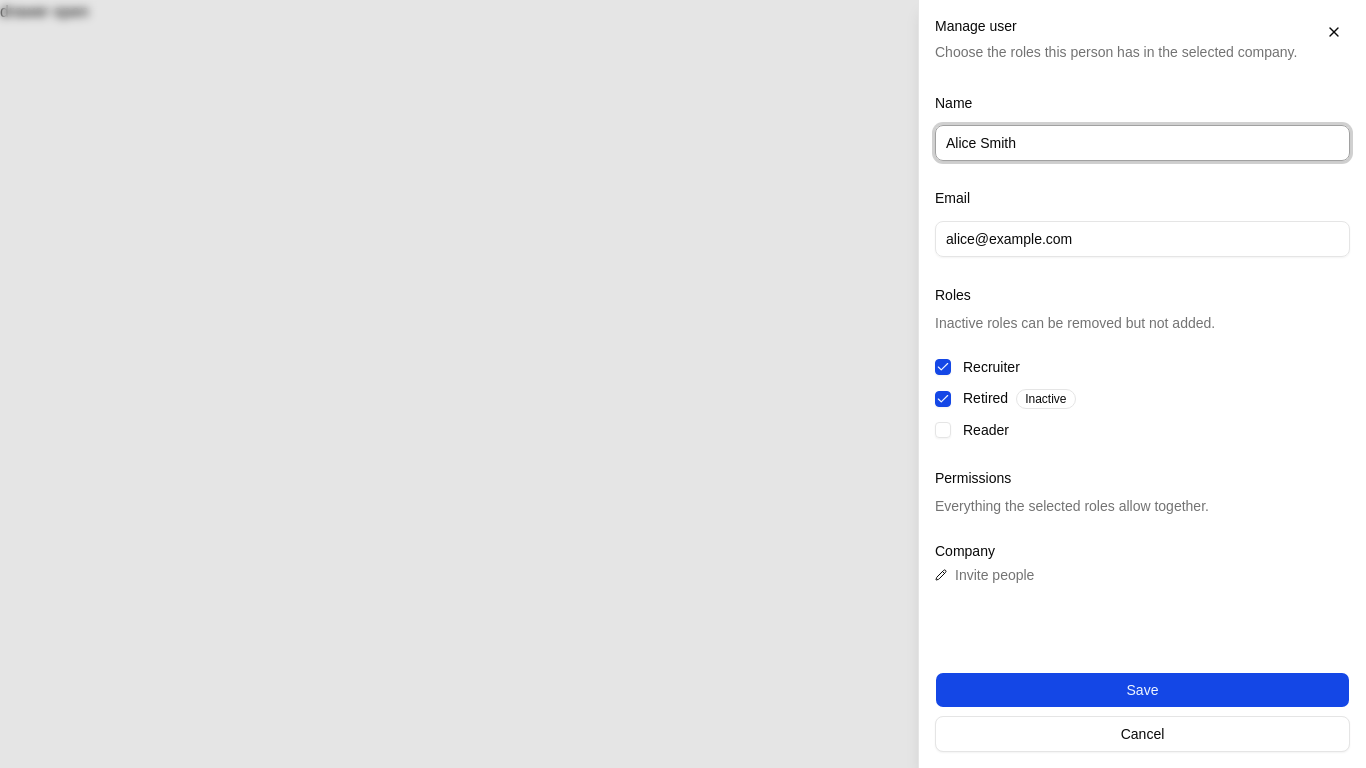
it: ManageUserDrawer › keeps at least one role and asks before discarding changes
Click the checkbox named "Recruiter" next to "Recruiter" at x=943, y=367, box [935, 359, 951, 375]
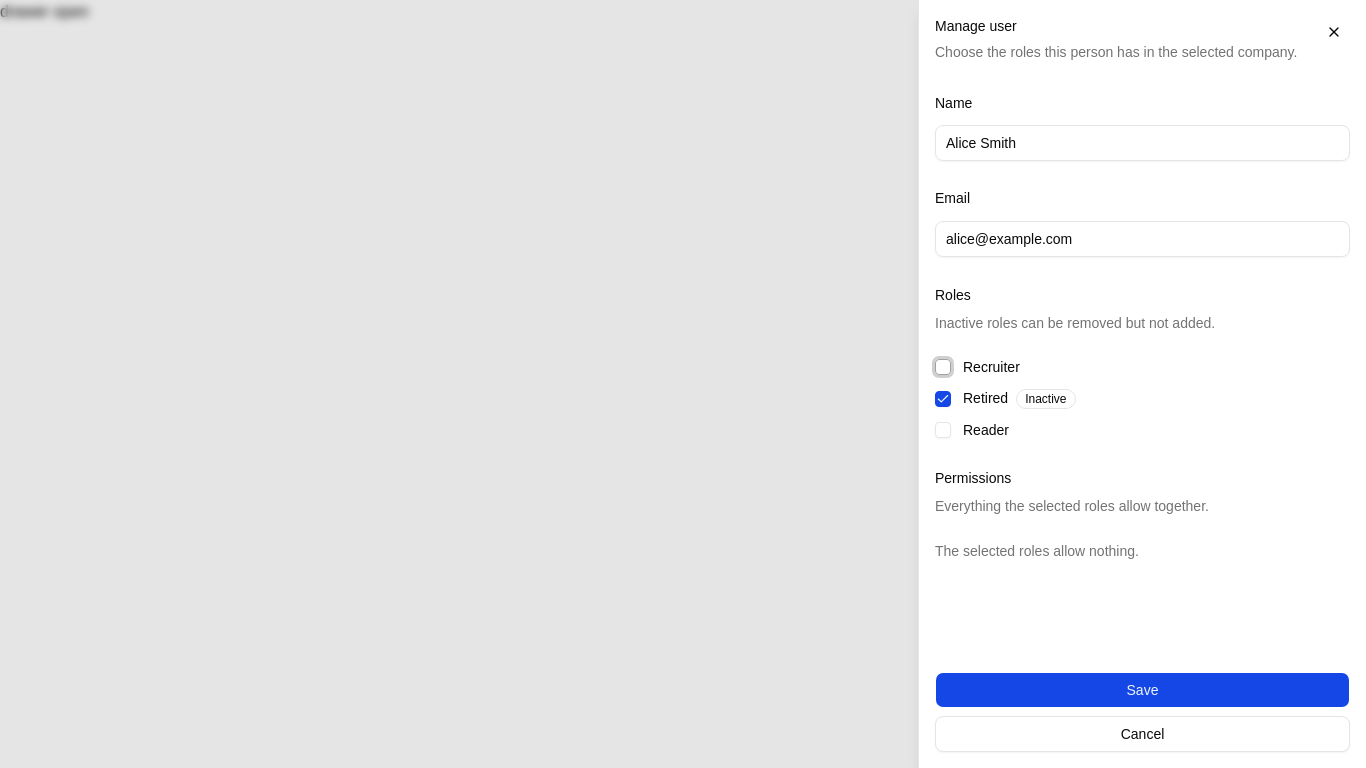
Click the checkbox named "Retired" next to "Retired" at x=943, y=399, box [935, 391, 951, 407]
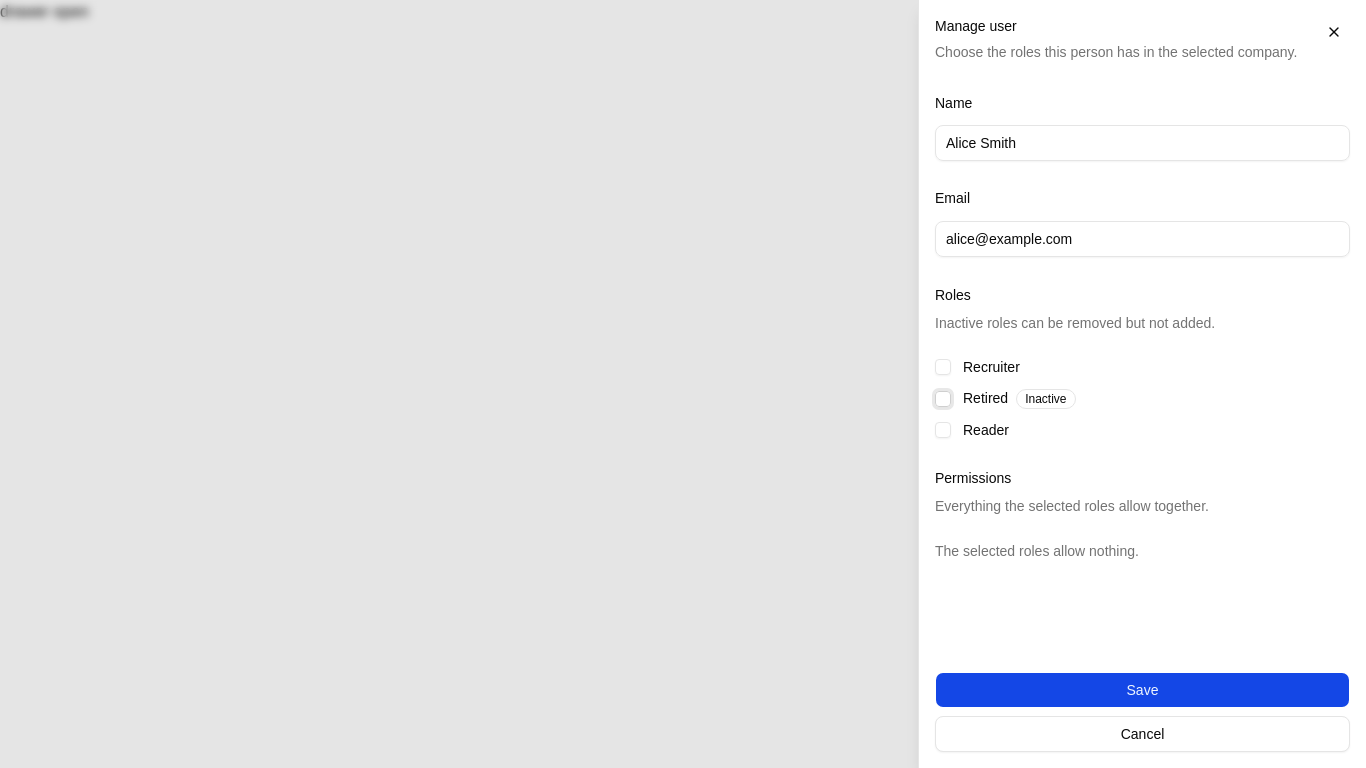
Click the button "Save" at x=1142, y=690, box [935, 672, 1350, 708]
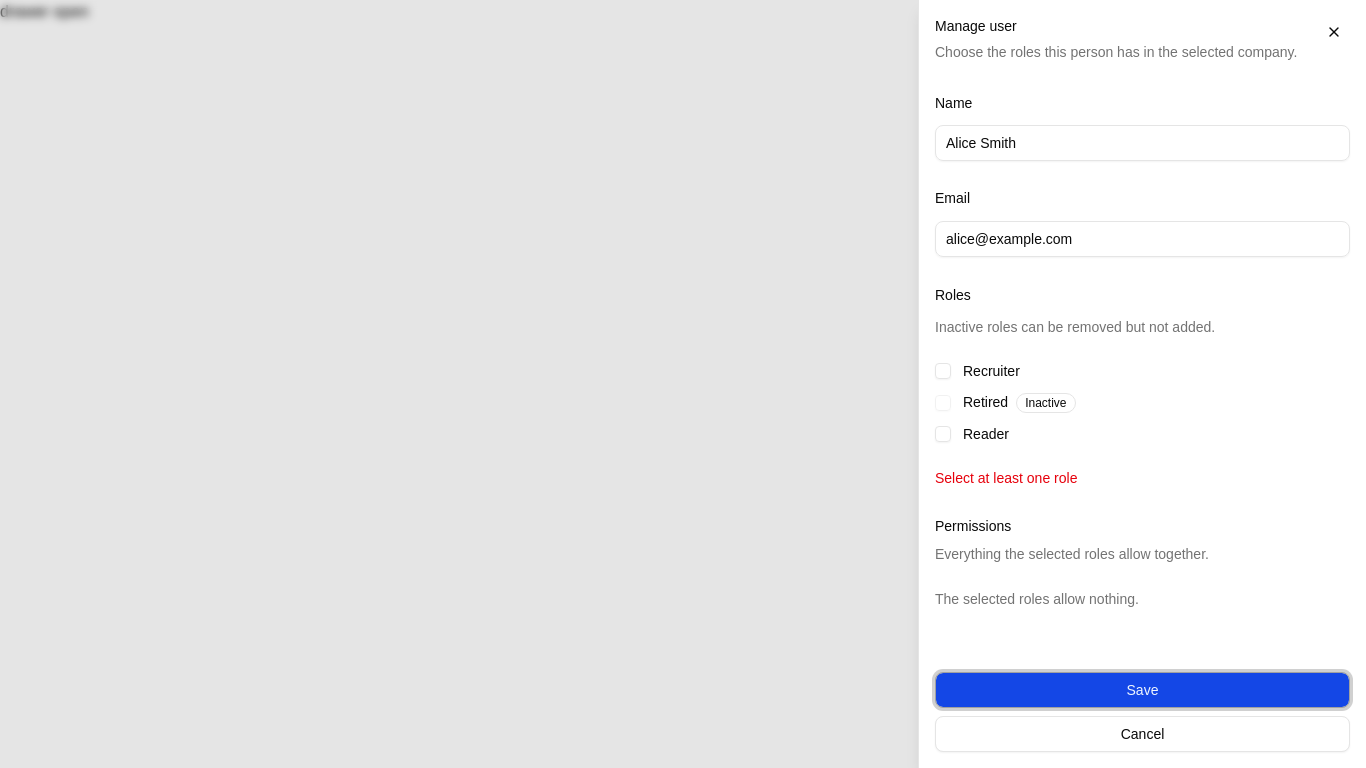
expect the text "Select at least one role" is shown: met, box [935, 470, 1077, 486]
Click the button "Cancel" at x=1142, y=734, box [935, 716, 1350, 752]
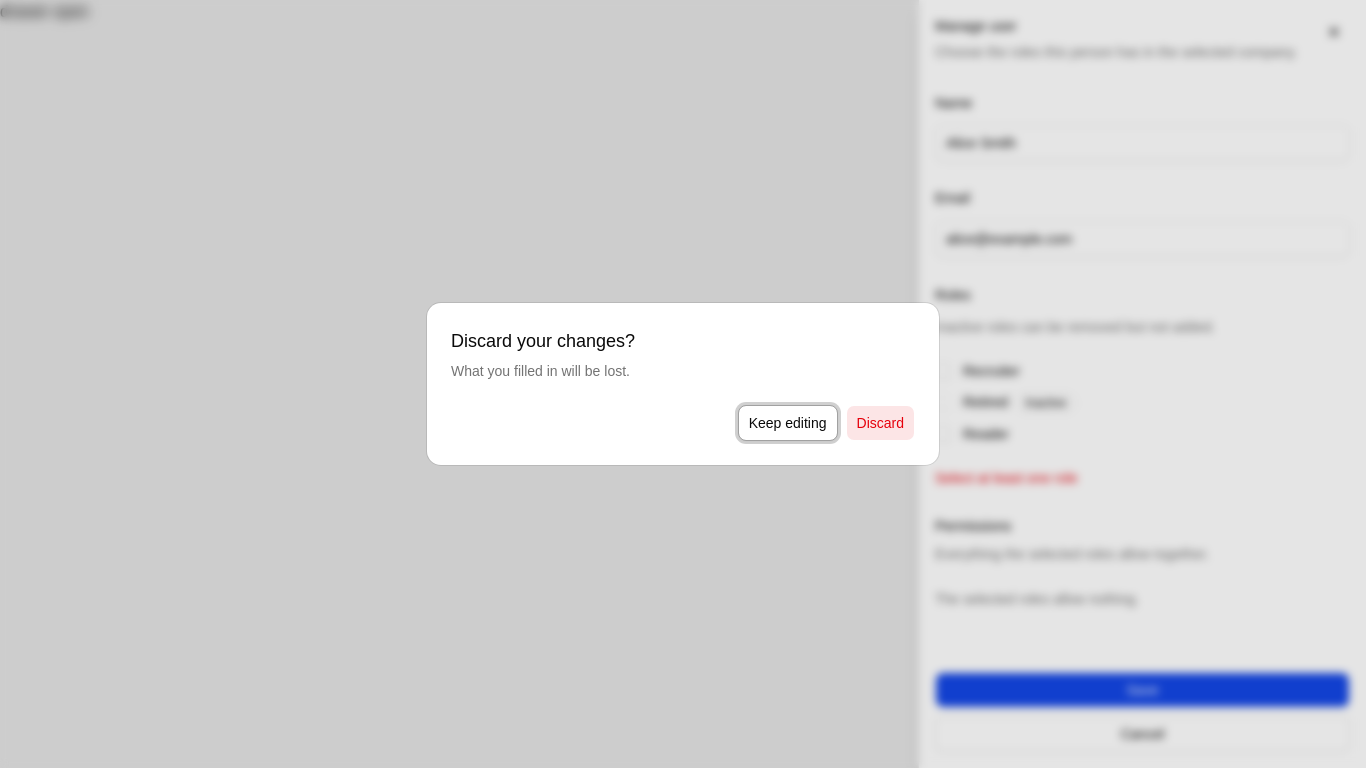
expect the heading "Discard your changes?" is shown: met, box [451, 327, 635, 355]
